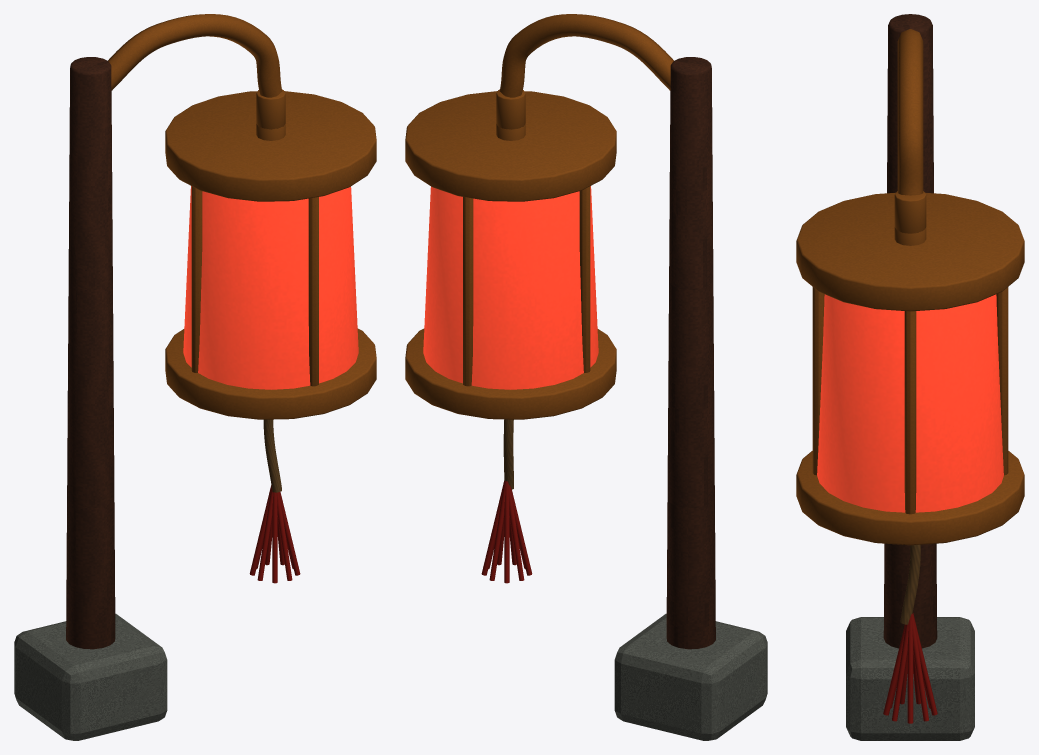
The model's file is prop_lantern.glb.
3 views of the same model, side by side, from view 1: azimuth 30°, elevation 25°; view 2: azimuth 150°, elevation 25°; view 3: azimuth 270°, elevation 25° (orthographic). The views are drawn at different scales.
Visible parts, largest first — view 1: LanternPaper, Post, LanternCap.001, StoneFoot, LanternCap, Hook, FrameBar.003, FrameBar.002, ChainLink, TasselCord; view 2: LanternPaper, Post, LanternCap.001, StoneFoot, LanternCap, Hook, FrameBar.001, FrameBar.002, ChainLink, TasselCord; view 3: LanternPaper, LanternCap.001, StoneFoot, LanternCap, Post, Hook, FrameBar, FrameBar.001, FrameBar.003, ChainLink, TasselCord, TasselThread_00 (+5 smaller).
Part boxes in pixels (<box>): LanternPaper: <box>183,186,358,389</box>; Post: <box>66,57,115,649</box>; LanternCap.001: <box>165,91,376,201</box>; StoneFoot: <box>14,613,167,740</box>; LanternCap: <box>165,328,376,419</box>; Hook: <box>108,14,282,97</box>; FrameBar.003: <box>308,197,318,386</box>; FrameBar.002: <box>191,186,202,372</box>; ChainLink: <box>256,89,285,129</box>; TasselCord: <box>263,419,281,492</box>; LanternPaper: <box>423,186,598,389</box>; Post: <box>666,57,715,649</box>; LanternCap.001: <box>405,91,616,201</box>; StoneFoot: <box>614,613,767,740</box>; LanternCap: <box>405,328,616,419</box>; Hook: <box>499,14,673,97</box>; FrameBar.001: <box>463,197,473,386</box>; FrameBar.002: <box>579,186,590,372</box>; ChainLink: <box>496,89,525,129</box>; TasselCord: <box>503,419,513,489</box>; LanternPaper: <box>817,294,1003,512</box>; LanternCap.001: <box>796,192,1024,311</box>; StoneFoot: <box>846,617,974,740</box>; LanternCap: <box>796,451,1024,545</box>; Post: <box>883,14,937,648</box>; Hook: <box>897,29,923,195</box>; FrameBar: <box>904,311,916,514</box>; FrameBar.001: <box>996,287,1008,475</box>; FrameBar.003: <box>812,287,824,475</box>; ChainLink: <box>894,191,926,233</box>; TasselCord: <box>900,544,920,624</box>; TasselThread_00: <box>907,614,913,723</box>.
Bounding box in the file's own units: 0.81 × 1.61 × 0.46.
6 materials, 6 textured.
